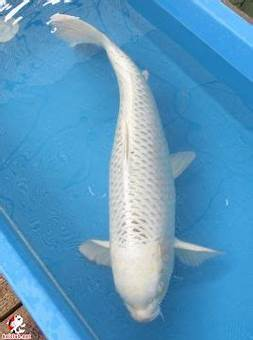white: (46, 12, 224, 324)
